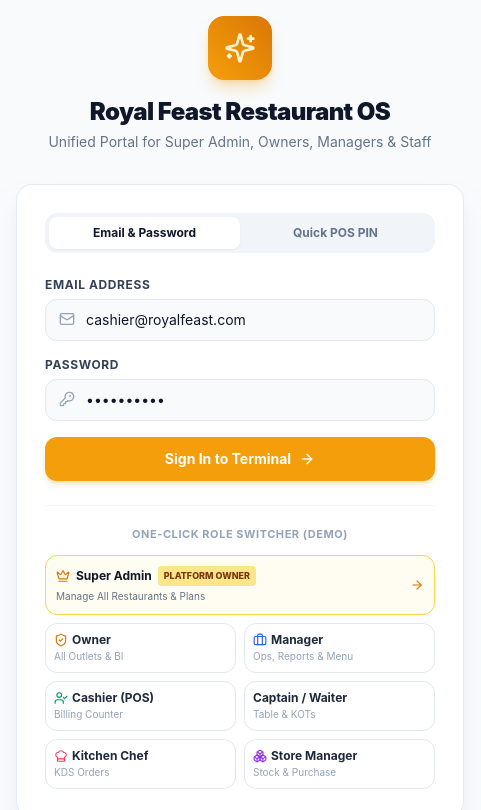
it: LoginPage Component › populates super admin credentials when Super Admin quick button is clicked
The image size is (481, 810).
Click the text "Super Admin" at x=114, y=576, box [76,568,152,584]
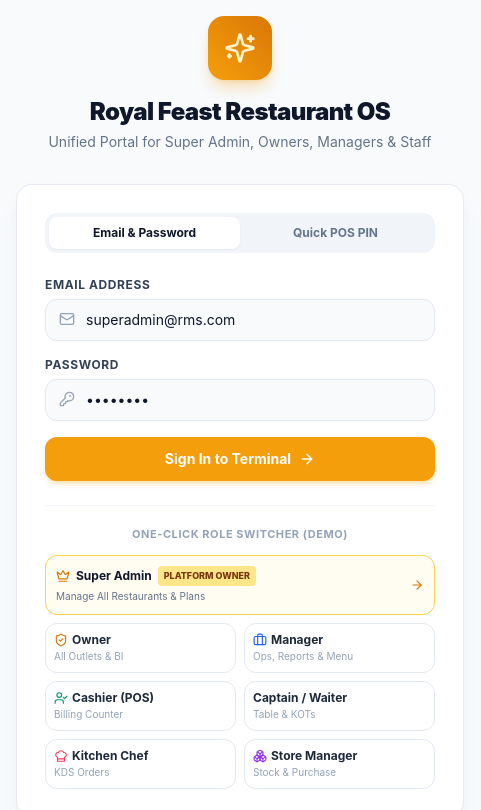
Result: the field with placeholder "name@restaurant.com" holds "superadmin@rms.com" at [45,299,435,341]
